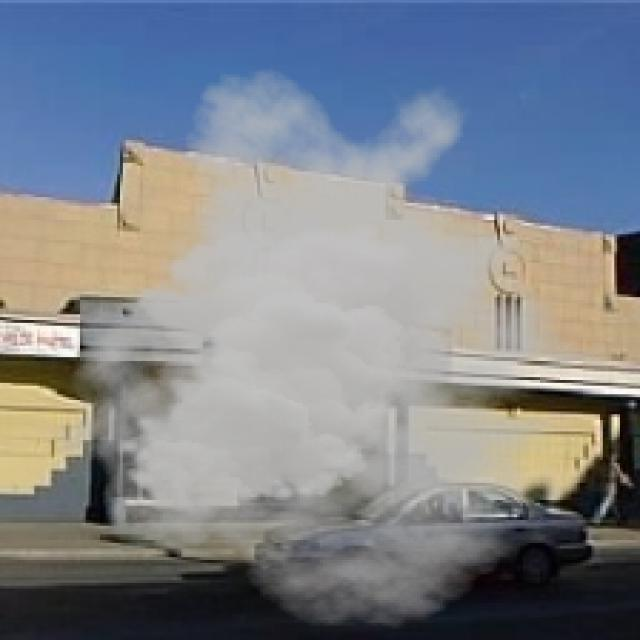smoke: (54, 66, 620, 628)
